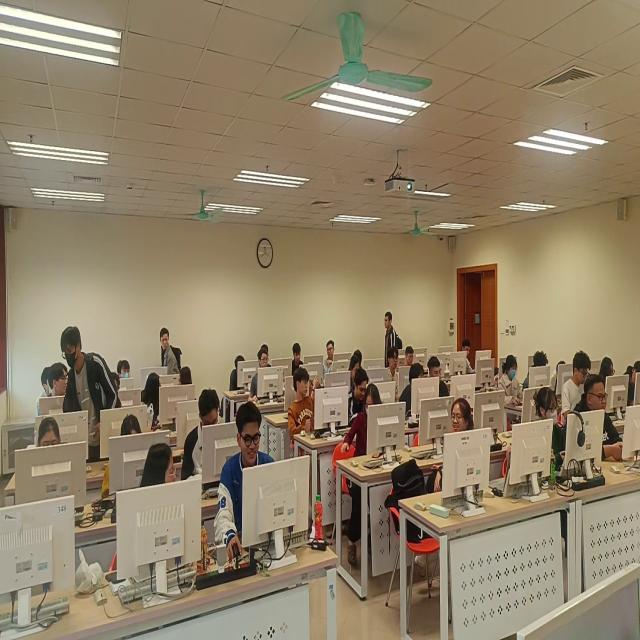raise_head: (248, 347, 275, 405), (115, 349, 132, 393)
stand: (60, 327, 121, 472), (159, 324, 186, 390), (381, 309, 405, 380)
using_computer: (215, 401, 285, 562), (575, 372, 629, 470), (182, 388, 224, 488), (101, 409, 144, 506), (533, 381, 575, 478), (32, 417, 67, 495), (497, 353, 526, 421), (563, 349, 589, 417), (523, 350, 552, 407), (401, 364, 426, 423), (458, 341, 491, 383), (429, 353, 453, 407), (597, 353, 619, 409), (348, 371, 369, 423), (228, 353, 247, 403), (551, 357, 573, 400), (345, 352, 363, 387), (290, 341, 305, 376), (405, 344, 415, 373), (354, 345, 366, 366)
